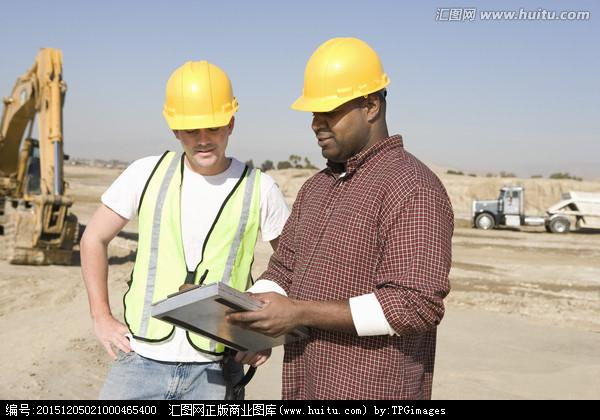helmet: (292, 37, 395, 115), (162, 59, 239, 133)
